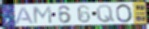6: (57, 5, 73, 24), (77, 4, 92, 24)
A: (13, 6, 35, 25)
M: (33, 6, 54, 25)
O: (115, 4, 134, 24)
Q: (96, 4, 116, 24)
